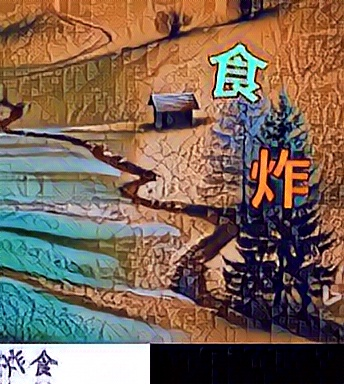CAB3: (207, 38, 270, 104)
D5A8: (249, 144, 312, 210)
